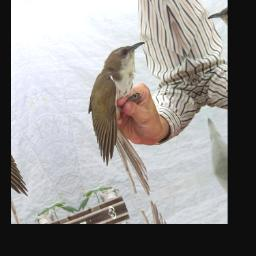Cuckoo: (69, 37, 195, 204)
